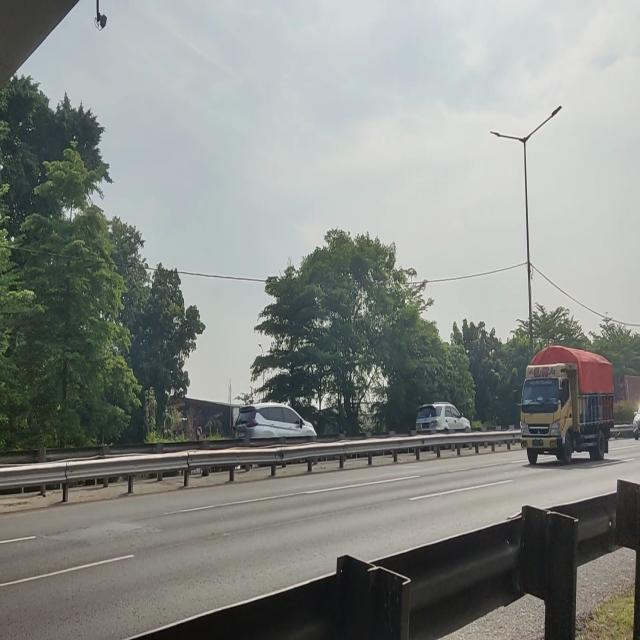Golongan II: (518, 346, 616, 469)
